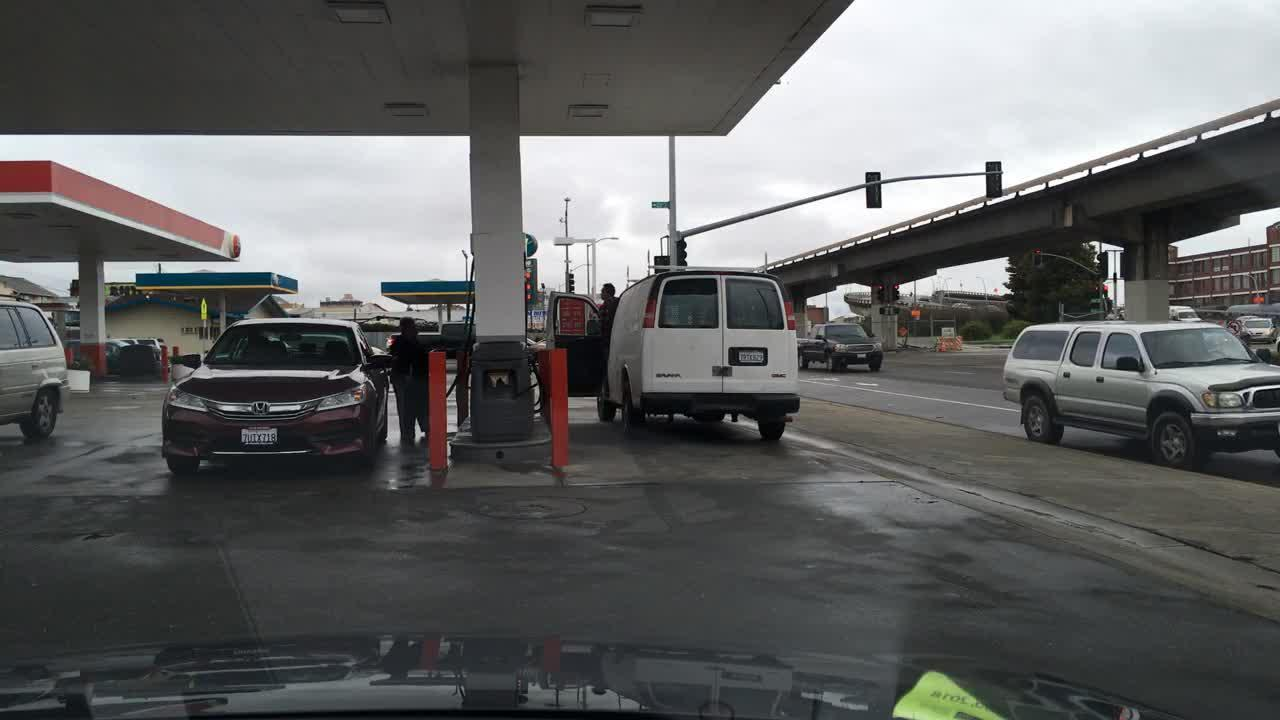GMC: (766, 369, 792, 382)
Honda: (250, 398, 278, 419)
